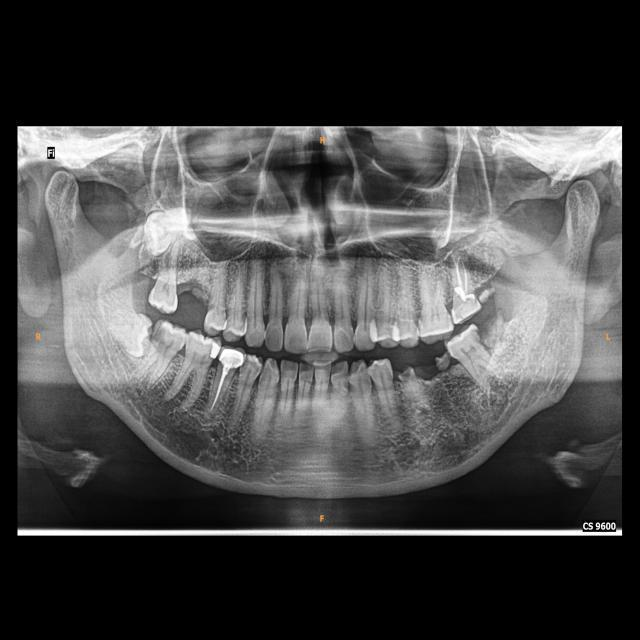dentin-curugu: (152, 321, 167, 344)
dolgu: (450, 296, 481, 322), (207, 338, 220, 362)
kanal-tedavisi: (445, 253, 472, 299), (207, 367, 231, 412)
kaplama: (220, 347, 244, 370)
kirik: (392, 363, 418, 382), (434, 349, 452, 373)
